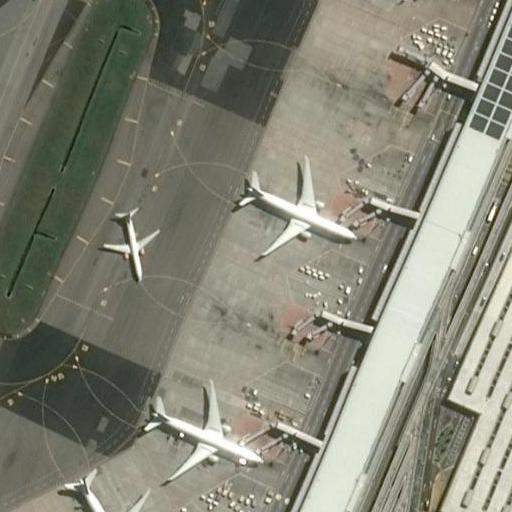Aircraft: (234, 154, 357, 262), (141, 381, 265, 480), (98, 202, 165, 276), (52, 467, 148, 512), (385, 0, 460, 6)
